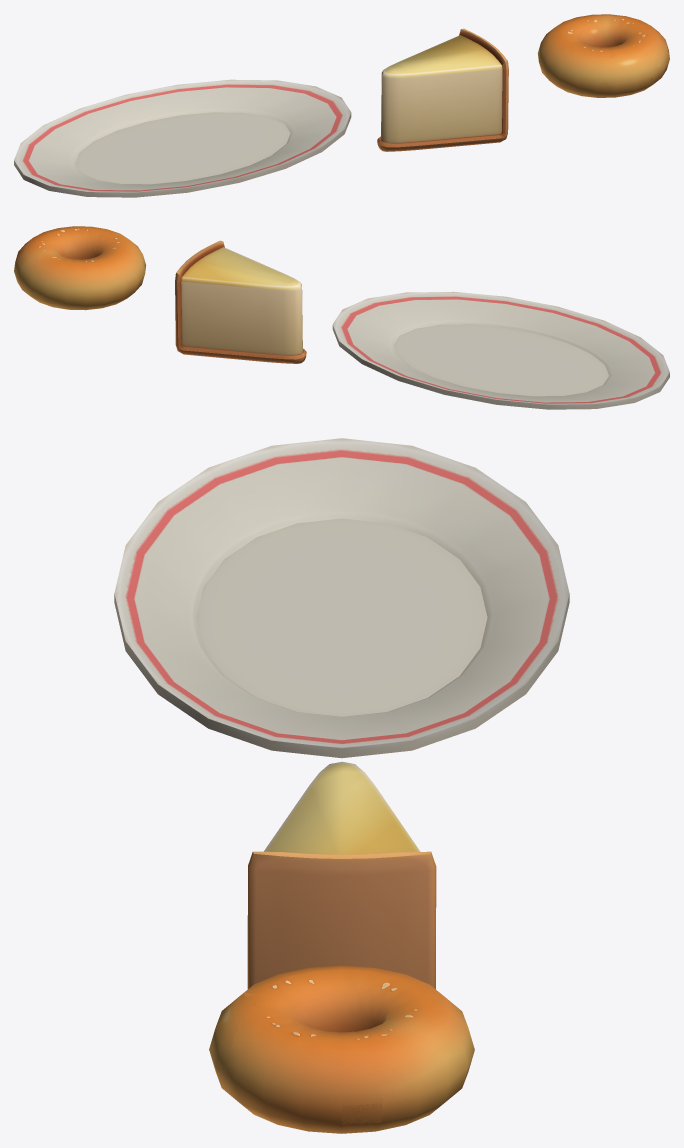
Rendered from Con_10.fbx.
3 views of the same model, one above another, from view 1: azimuth 30°, elevation 25°; view 2: azimuth 150°, elevation 25°; view 3: azimuth 270°, elevation 25° (orthographic). The views are drawn at different scales.
Visible parts, largest first — view 1: Con_10_Dish, Con_10_Cake, Con_10_Bagel_01, Con_10_Bagel_02; view 2: Con_10_Dish, Con_10_Cake, Con_10_Bagel_01, Con_10_Bagel_02; view 3: Con_10_Dish, Con_10_Bagel_01, Con_10_Cake, Con_10_Bagel_02.
Boxes of the visible parts, x1,y1,x2,y2 form: Con_10_Dish: (14,79,351,197); Con_10_Cake: (377,28,508,151); Con_10_Bagel_01: (537,14,669,97); Con_10_Bagel_02: (538,14,669,97); Con_10_Dish: (332,291,669,409); Con_10_Cake: (175,240,306,363); Con_10_Bagel_01: (14,226,146,310); Con_10_Bagel_02: (14,226,144,309); Con_10_Dish: (114,438,569,758); Con_10_Bagel_01: (209,965,474,1133); Con_10_Cake: (247,761,436,989); Con_10_Bagel_02: (217,966,474,1133).
Bounding box in the file's own units: 45.42 × 5.6 × 14.04.
